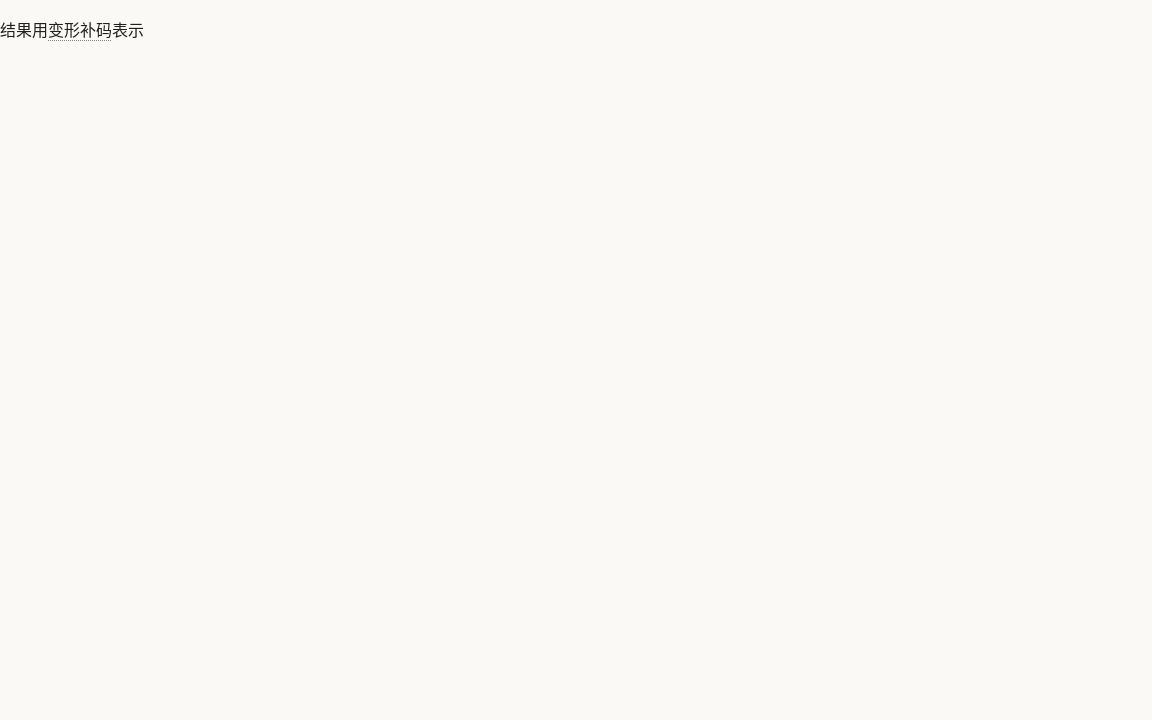
Test case: 术语卡 › 点开显示定义和教材页码，再点关上
The image size is (1152, 720).
Click the button with class "term".
click(80, 30)  # box [46,7,114,53]
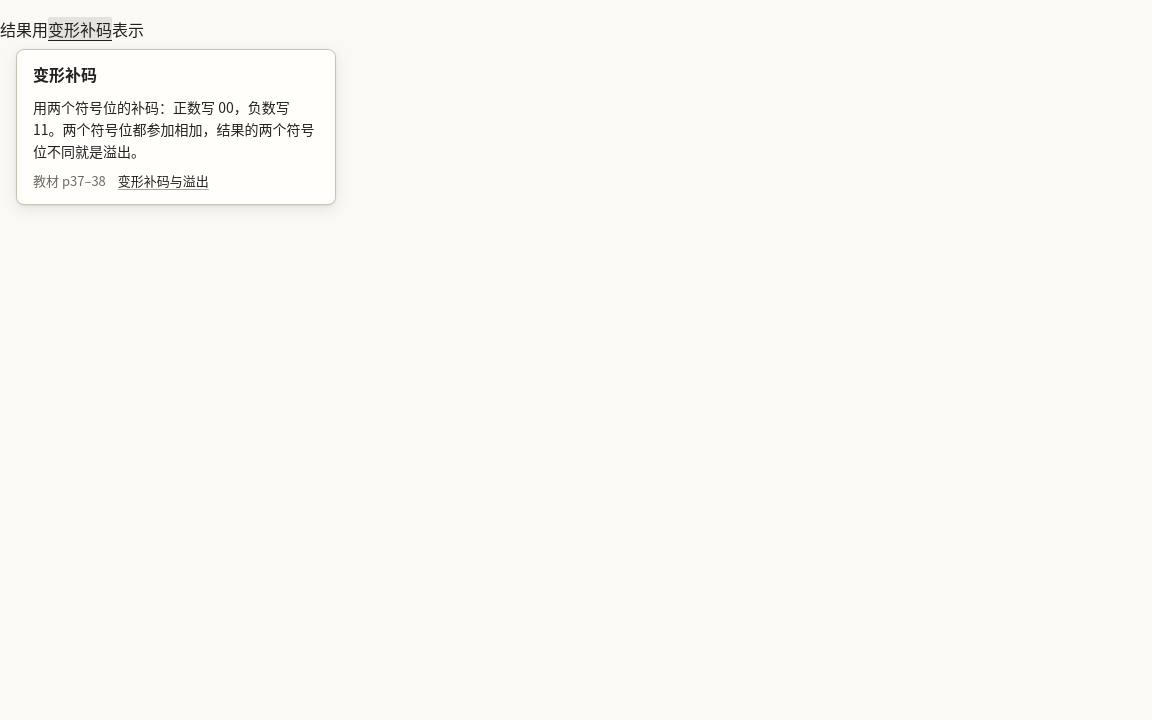
Expected: the button with class "term" is expanded
Expected: the dialog shows "两个符号位", [33,97,314,161]
Expected: the dialog shows "教材 p37–38", [16,49,336,205]
Click the button with class "term".
click(80, 30)  # box [46,7,114,53]
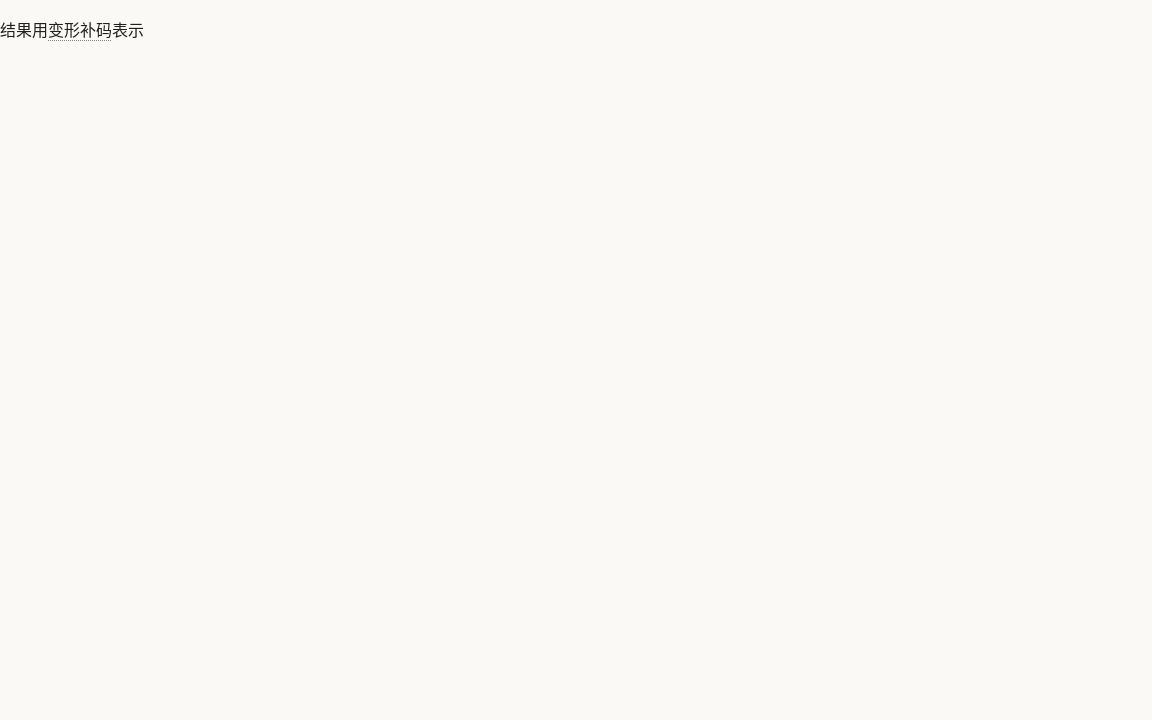
Expected: the dialog is gone
